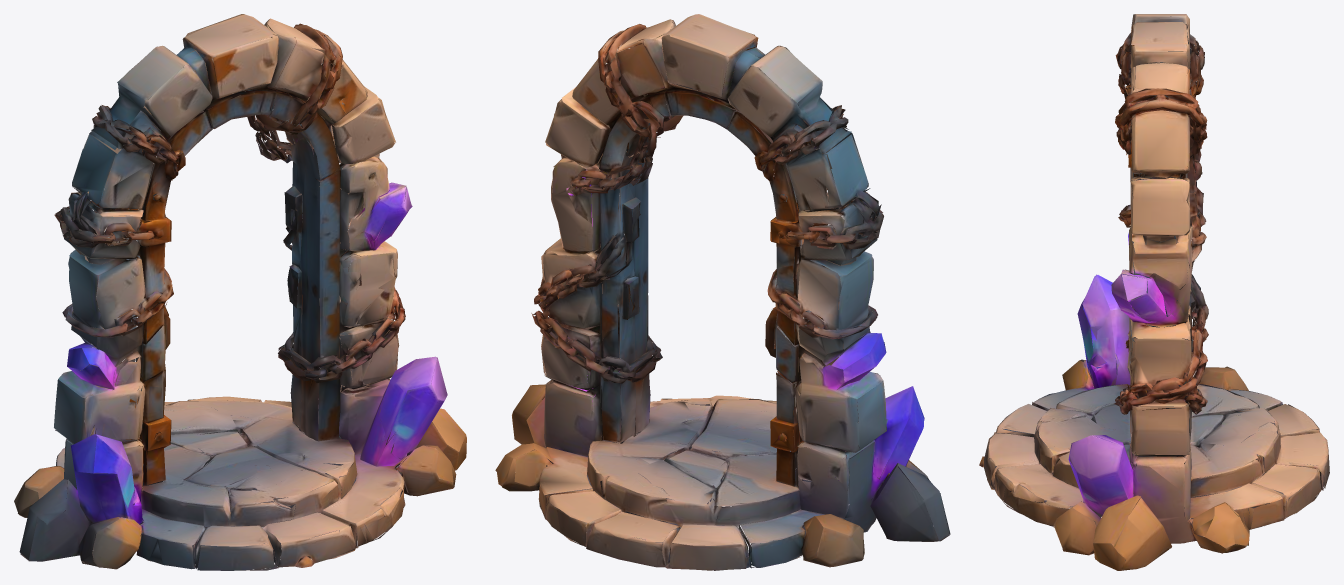
The model's file is portal.glb.
The picture shows the model from 3 angles, left to right: view 1: azimuth 30°, elevation 25°; view 2: azimuth 150°, elevation 25°; view 3: azimuth 270°, elevation 25°; orthographic projection. The views are drawn at different scales.
Parts seen in each view (by area): view 1: portal; view 2: portal; view 3: portal.
Part boxes in pixels (x1,y1,x2,y2): portal: (14, 14, 466, 570); portal: (495, 14, 950, 570); portal: (979, 14, 1329, 570).
Bounding box in the file's own units: 0.8425 × 0.8571 × 0.615.
Materials: 1 (1 with a texture image).
